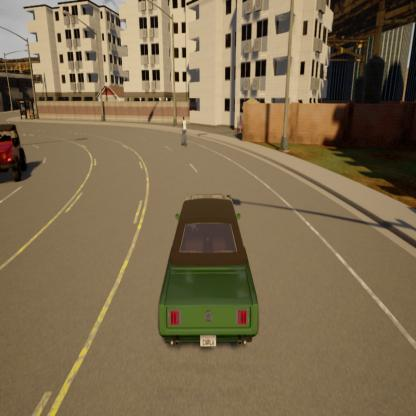Cars: (145, 186, 270, 365), (0, 117, 36, 183)
